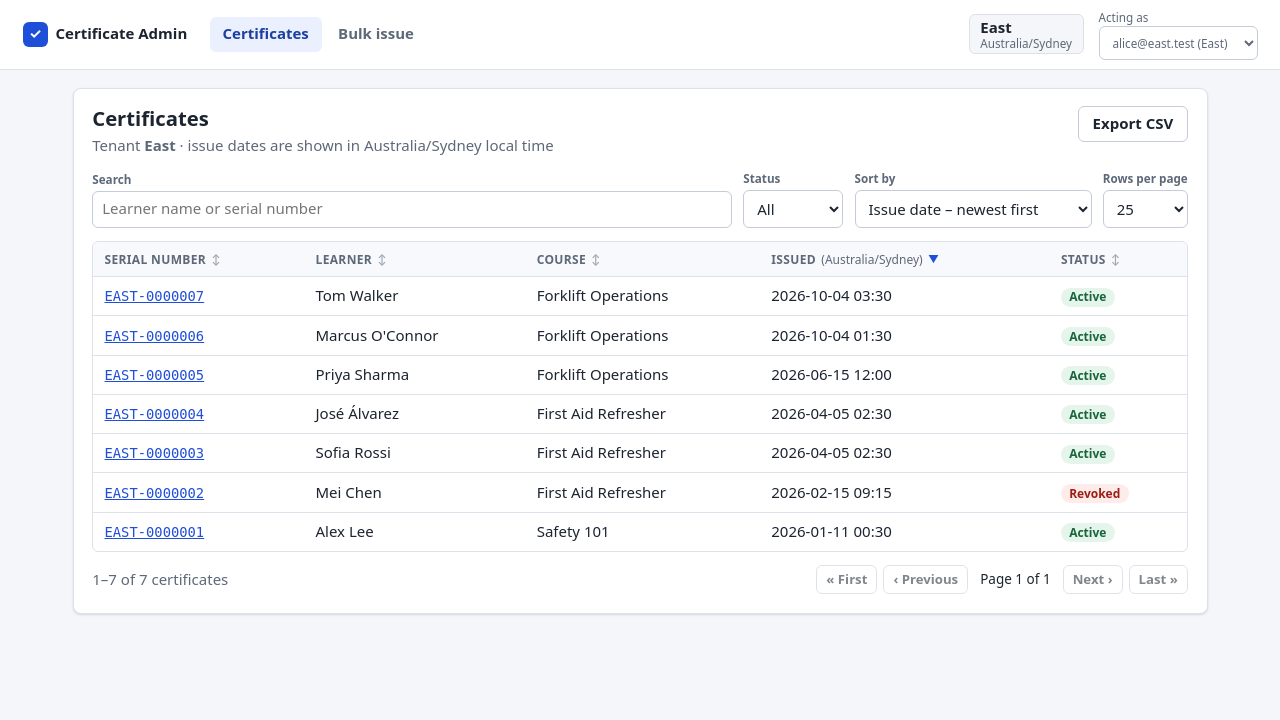
it: Certificate list › offers 5 rows per page, so that paging can be tried on the demo data as it is
expect the navigation bar named "Pagination" shows "Page 1 of 1": met, box [92, 565, 1188, 594]
Step 1. Select "5" in the dropdown with test id "page-size" → [1145, 209], box [1103, 190, 1188, 228]
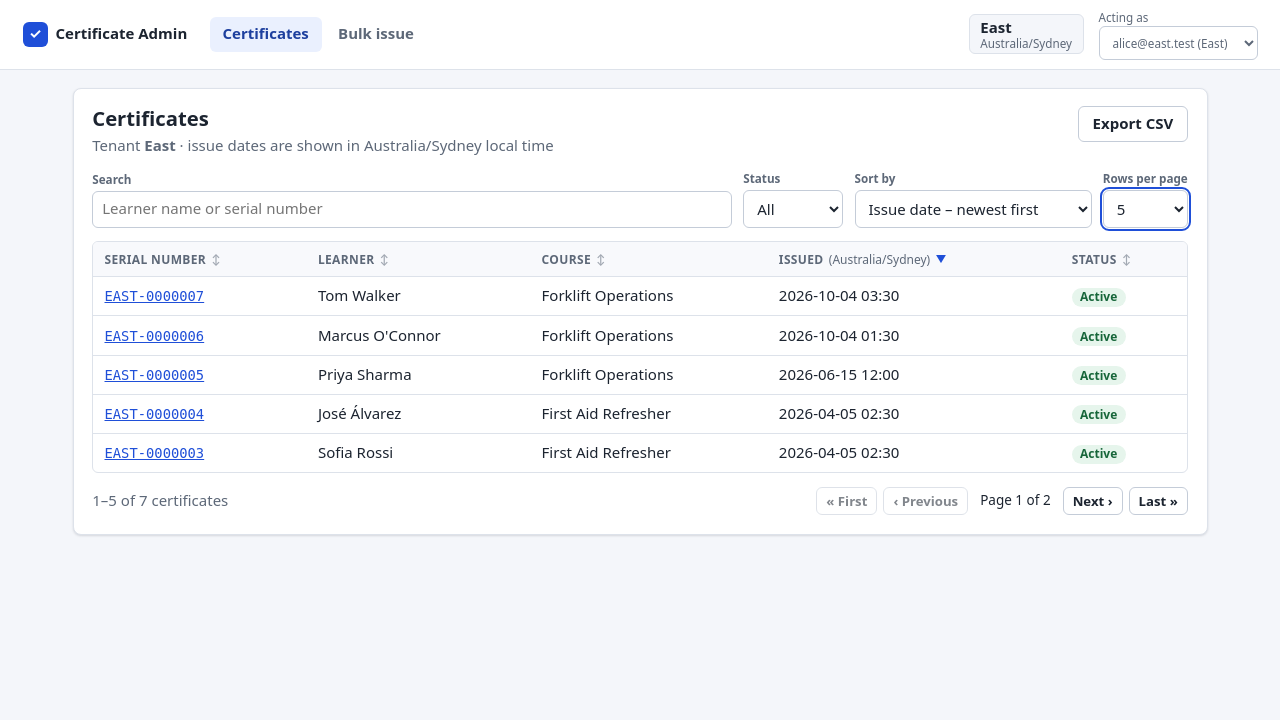
expect the navigation bar named "Pagination" shows "1–5 of 7 certificates": met, box [92, 490, 228, 510]
expect the navigation bar named "Pagination" shows "Page 1 of 2": met, box [92, 487, 1188, 515]
Step 2. Click the button "Next ›" → [1093, 501], box [1063, 487, 1122, 515]
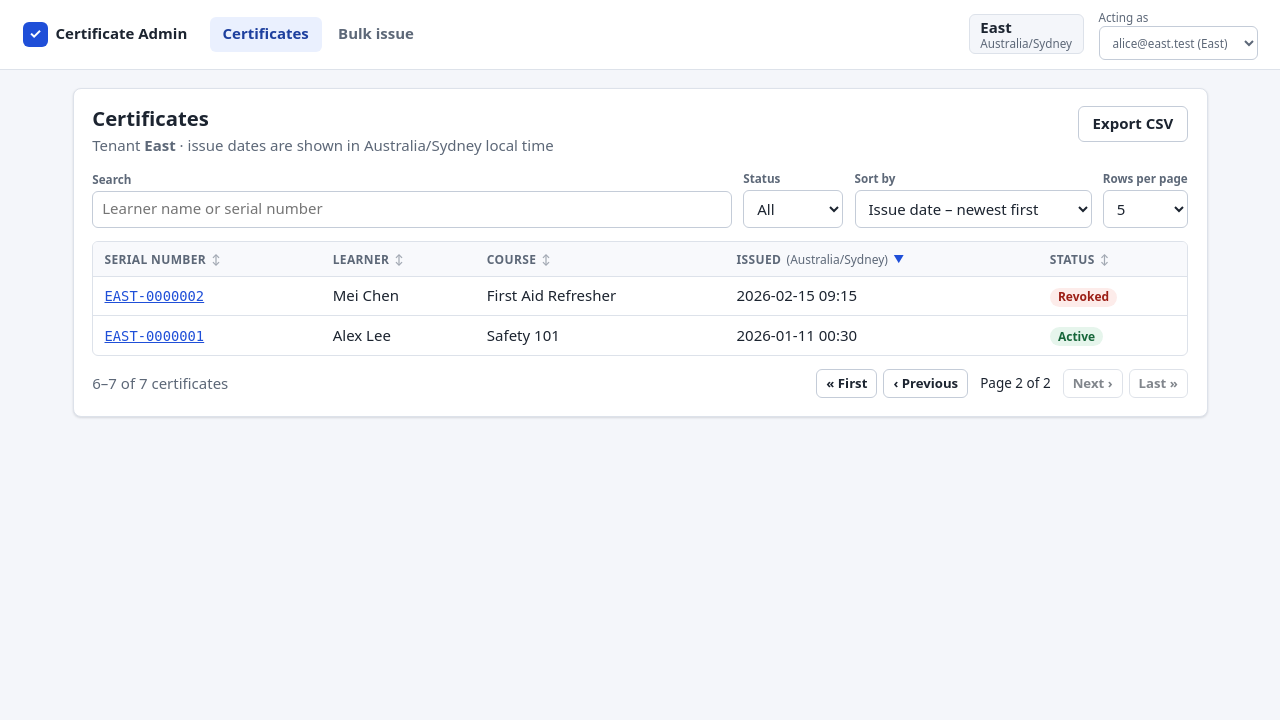
expect the navigation bar named "Pagination" shows "6–7 of 7 certificates": met, box [92, 372, 228, 392]
